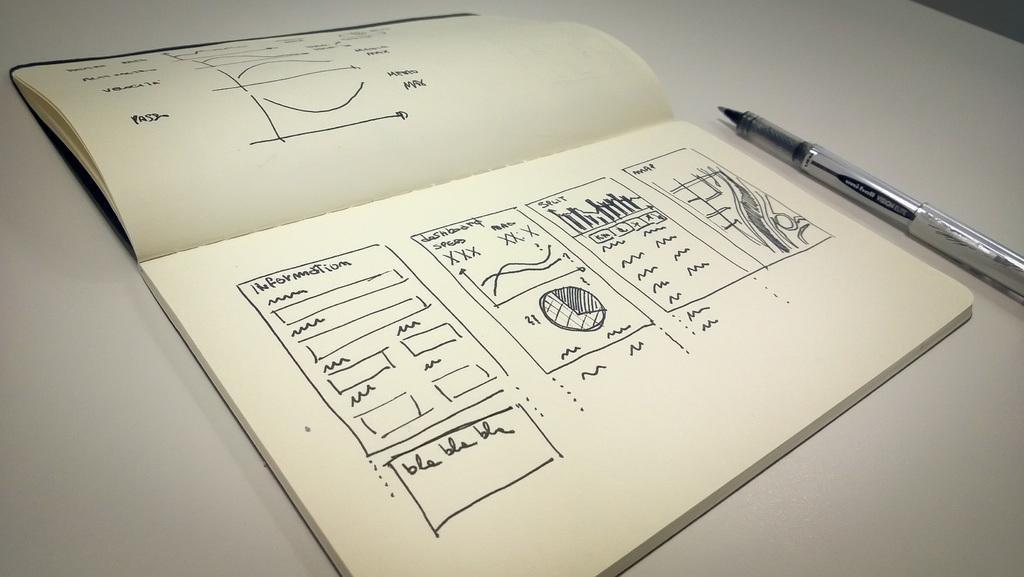pen: (711, 103, 1023, 308)
